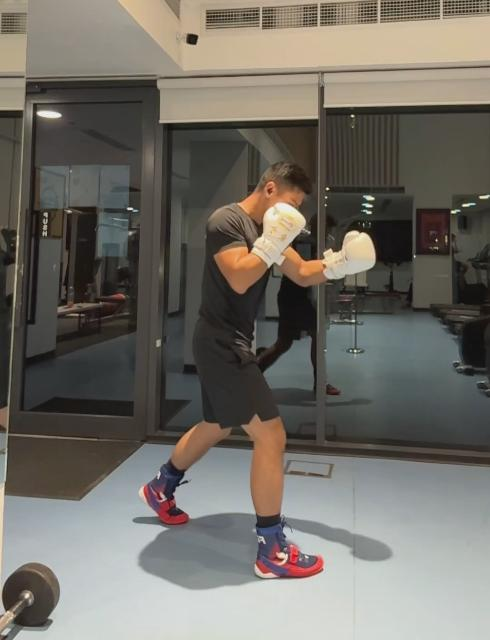punch: (138, 156, 380, 582)
